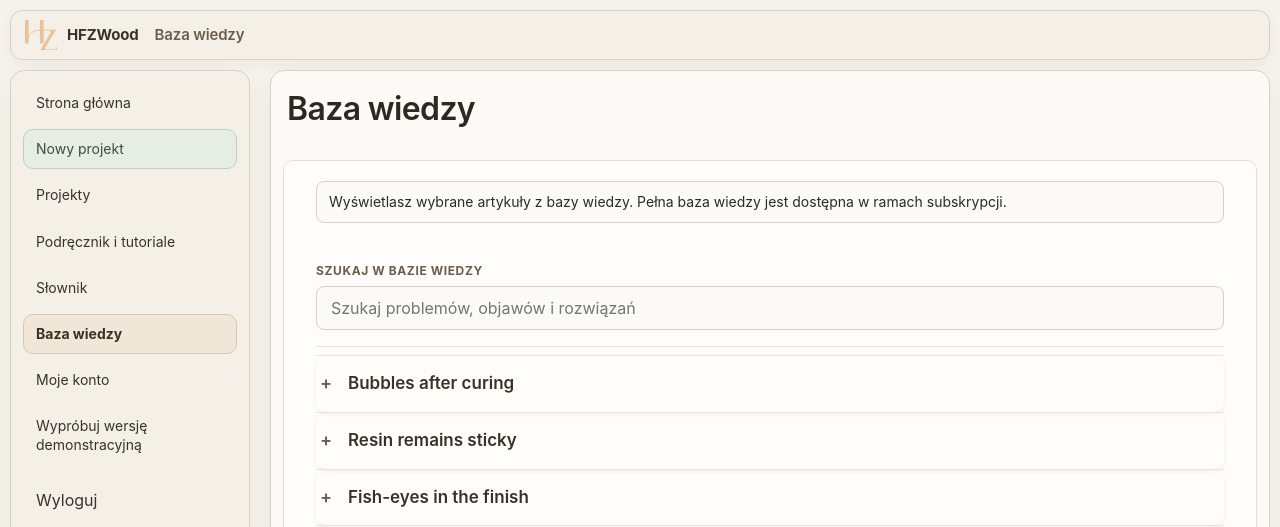
Scenario: Knowledge Base public UI localization › renders Polish Knowledge Base structural labels
The image size is (1280, 527).
Expected: the search field with placeholder "Szukaj problemów, objawów i rozwiązań" is shown, [316, 286, 1224, 330]
Click the button "+ Resin remains sticky".
click(432, 440)  # box [316, 413, 1224, 469]
(page scrolled)
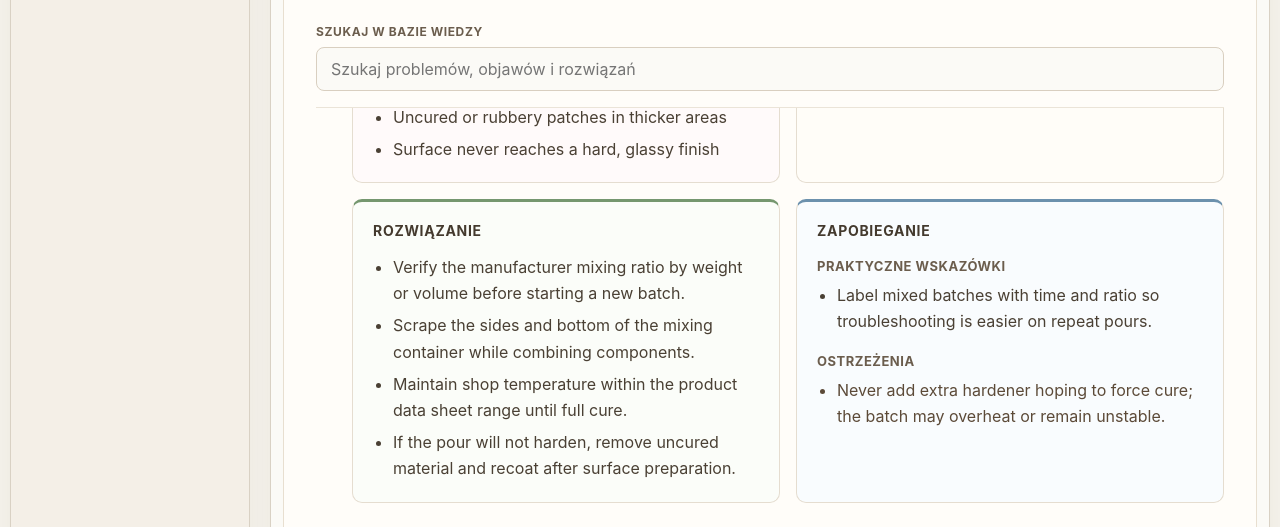
Now the heading "Objawy" is shown, box [373, 22, 434, 38]
Now the heading "Rozwiązanie" is shown, box [373, 222, 482, 239]
Now the heading "Praktyczne wskazówki" is shown, box [817, 258, 1006, 274]
